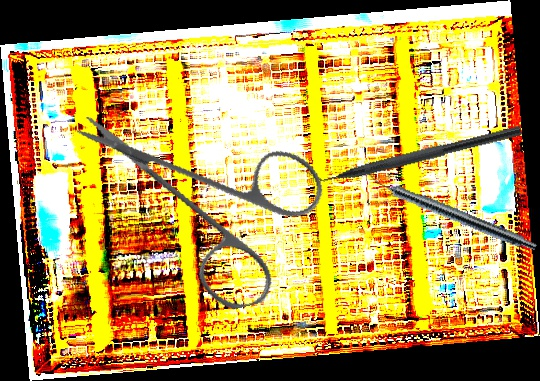Chopper: (299, 110, 524, 194)
Handpiece: (361, 168, 540, 255)
Iris Scissors: (74, 66, 346, 336)
